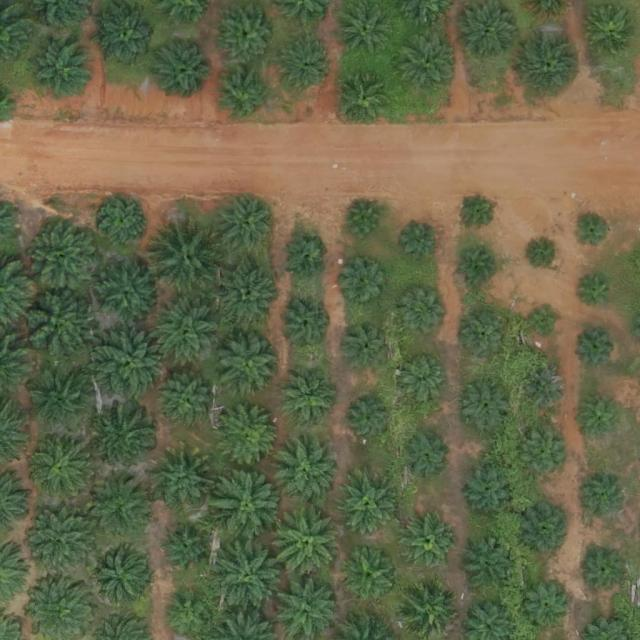Healthy: (26, 217, 104, 296), (18, 286, 96, 365), (21, 503, 99, 582), (93, 326, 171, 405), (150, 217, 228, 296), (148, 294, 226, 373), (211, 467, 289, 546), (211, 537, 289, 616), (269, 504, 347, 583), (520, 33, 583, 96), (30, 371, 93, 434), (90, 472, 153, 535), (215, 194, 278, 257), (31, 38, 93, 101), (97, 6, 160, 68), (219, 4, 281, 67), (396, 29, 458, 92), (31, 434, 93, 497), (98, 406, 160, 469), (155, 449, 217, 512), (219, 407, 282, 469), (88, 545, 150, 608), (155, 38, 217, 100), (97, 262, 159, 324), (218, 267, 280, 329), (218, 334, 280, 396), (276, 442, 338, 504), (335, 474, 397, 536), (218, 69, 273, 124), (281, 39, 336, 94), (341, 2, 396, 57), (339, 71, 394, 126), (160, 376, 215, 431), (282, 373, 337, 428), (463, 466, 518, 521), (462, 540, 517, 595), (343, 551, 398, 606), (403, 516, 457, 571), (101, 197, 148, 245), (162, 527, 209, 574), (524, 586, 571, 633)
Small: (278, 298, 333, 353), (460, 378, 515, 433), (519, 503, 574, 558), (400, 354, 447, 402), (347, 396, 394, 444), (402, 431, 449, 479), (342, 261, 389, 308), (401, 287, 448, 334), (462, 315, 509, 362), (344, 322, 391, 369), (166, 592, 213, 639), (583, 550, 630, 597), (576, 477, 623, 524), (519, 431, 566, 478), (281, 235, 328, 282), (524, 368, 571, 415), (346, 202, 385, 242), (458, 192, 497, 232), (458, 248, 498, 287), (576, 274, 615, 314), (576, 328, 615, 368), (402, 223, 441, 262), (574, 212, 613, 251), (582, 398, 621, 437), (530, 239, 561, 271), (530, 306, 561, 338)
